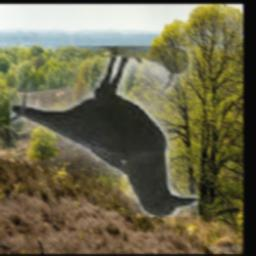Crow: (10, 47, 198, 218)
